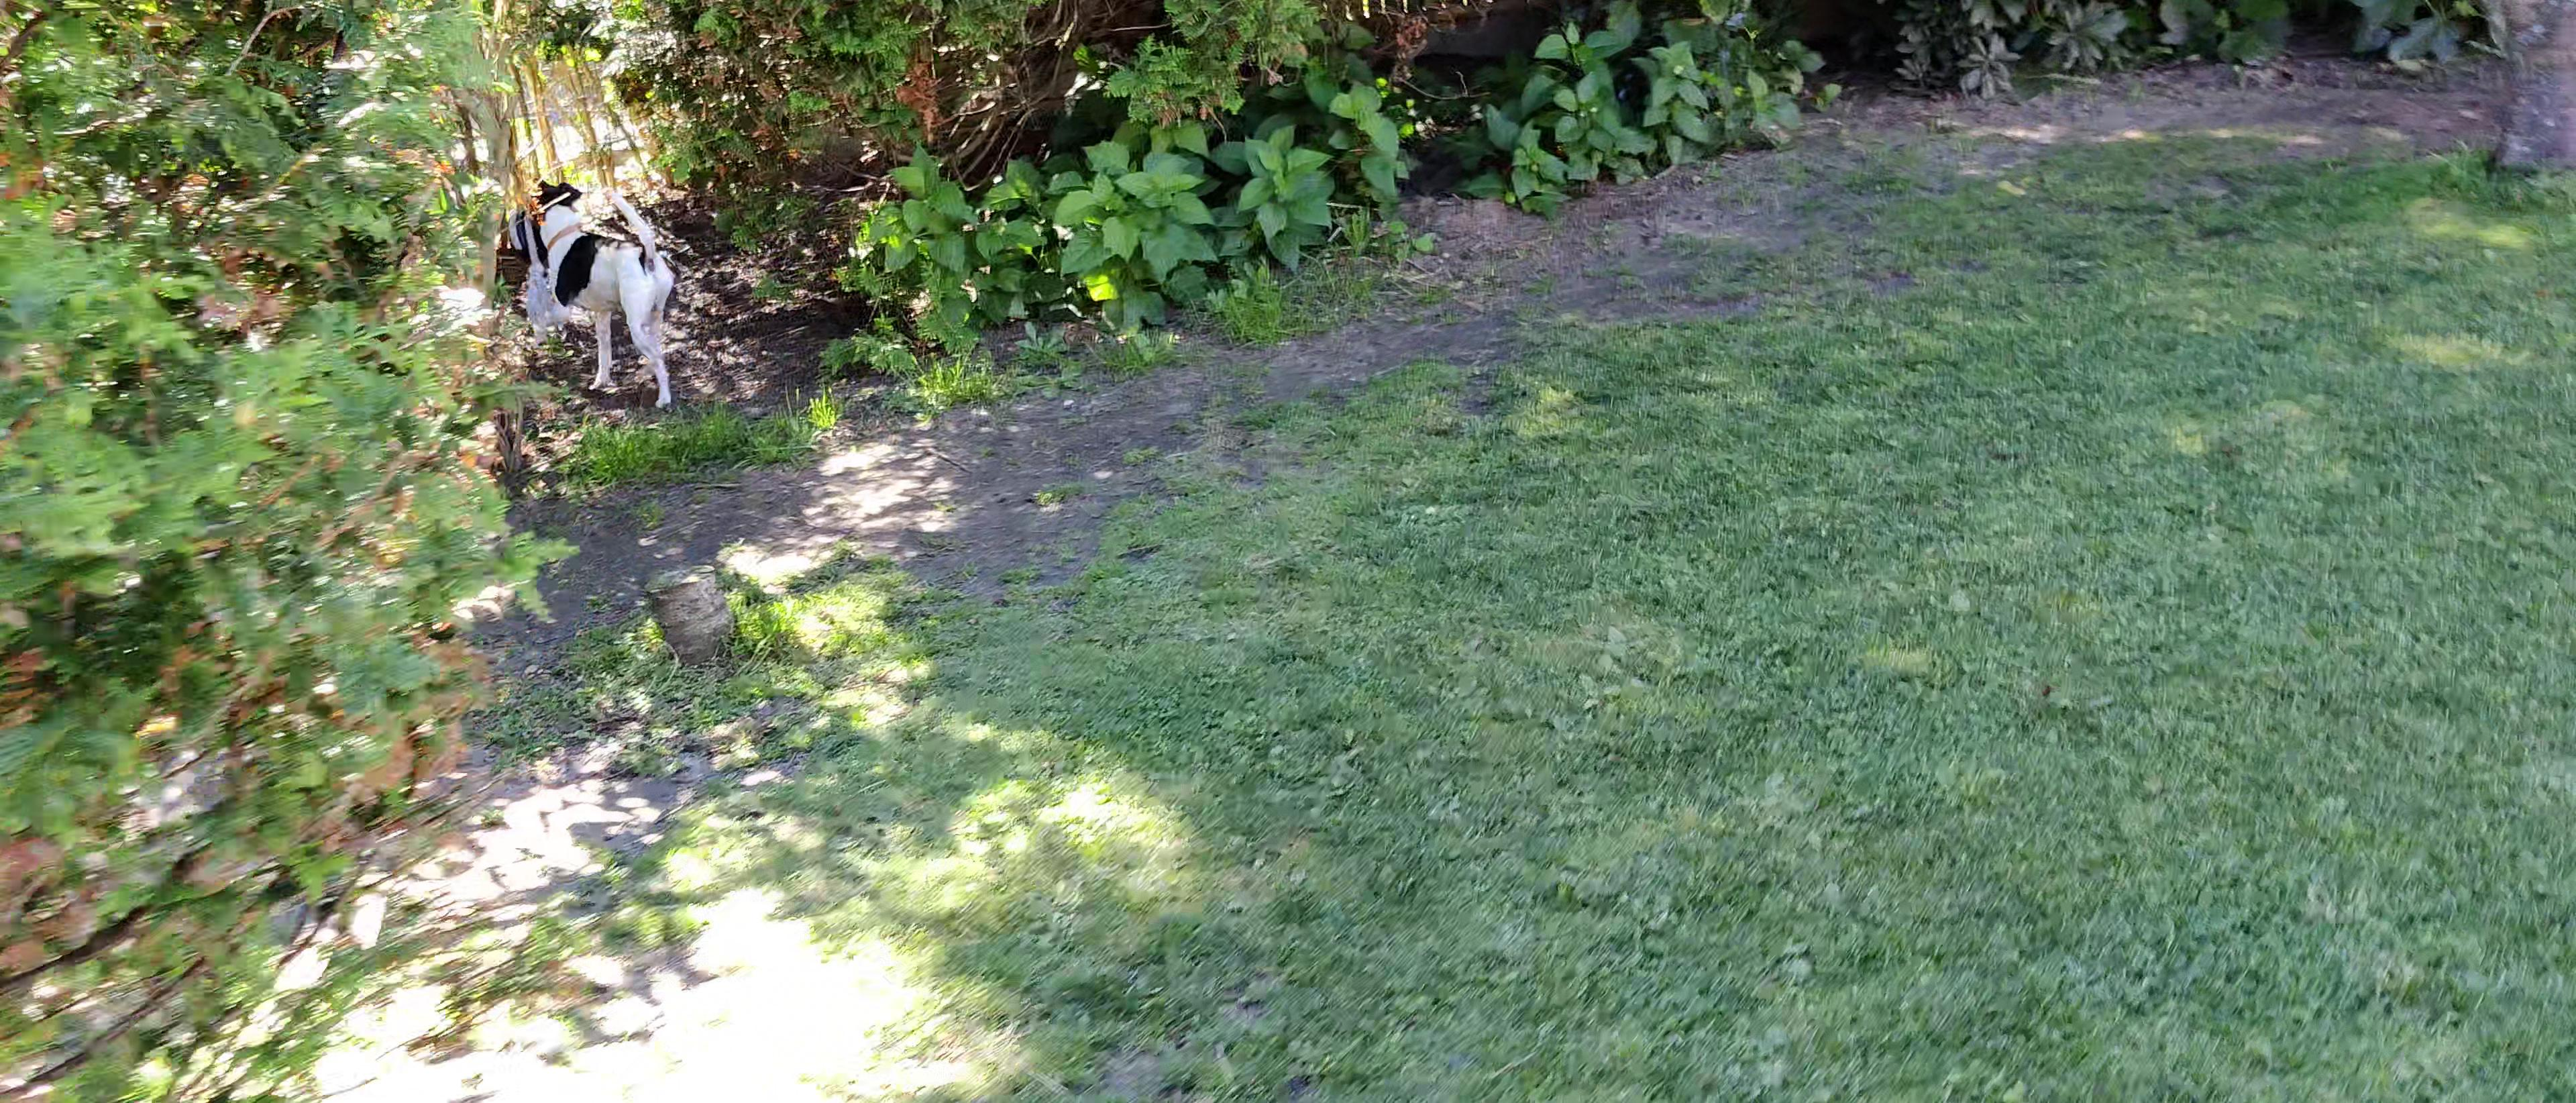Dog: (527, 176, 682, 411)
